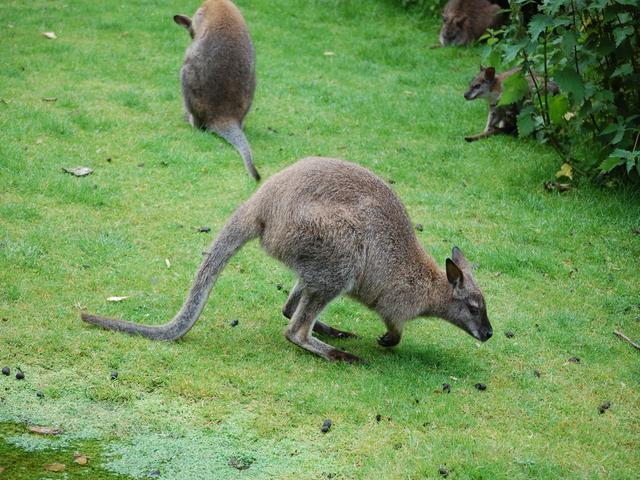kangaroo: (92, 143, 588, 367), (161, 4, 281, 202)
